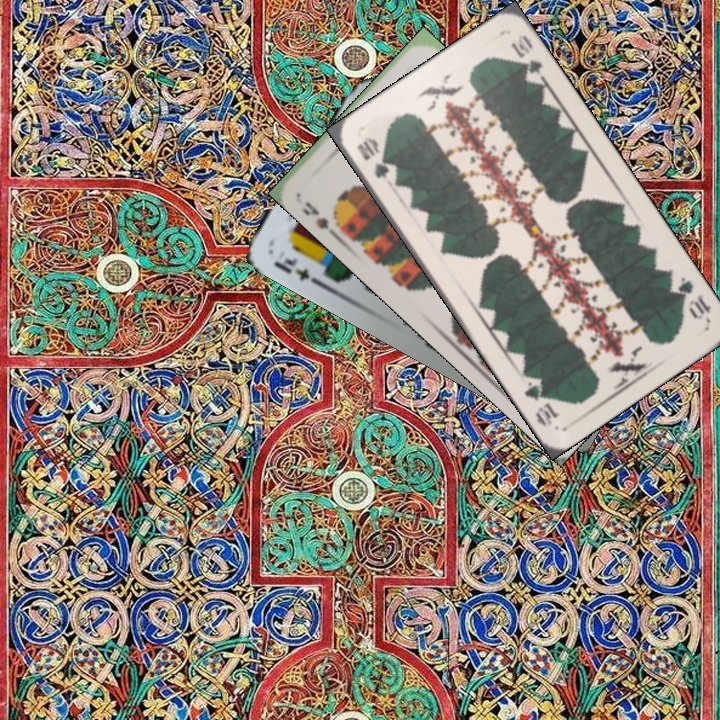EK: (270, 254, 321, 287)
G10: (671, 272, 714, 323), (352, 133, 392, 182)
S9: (298, 197, 349, 242)
